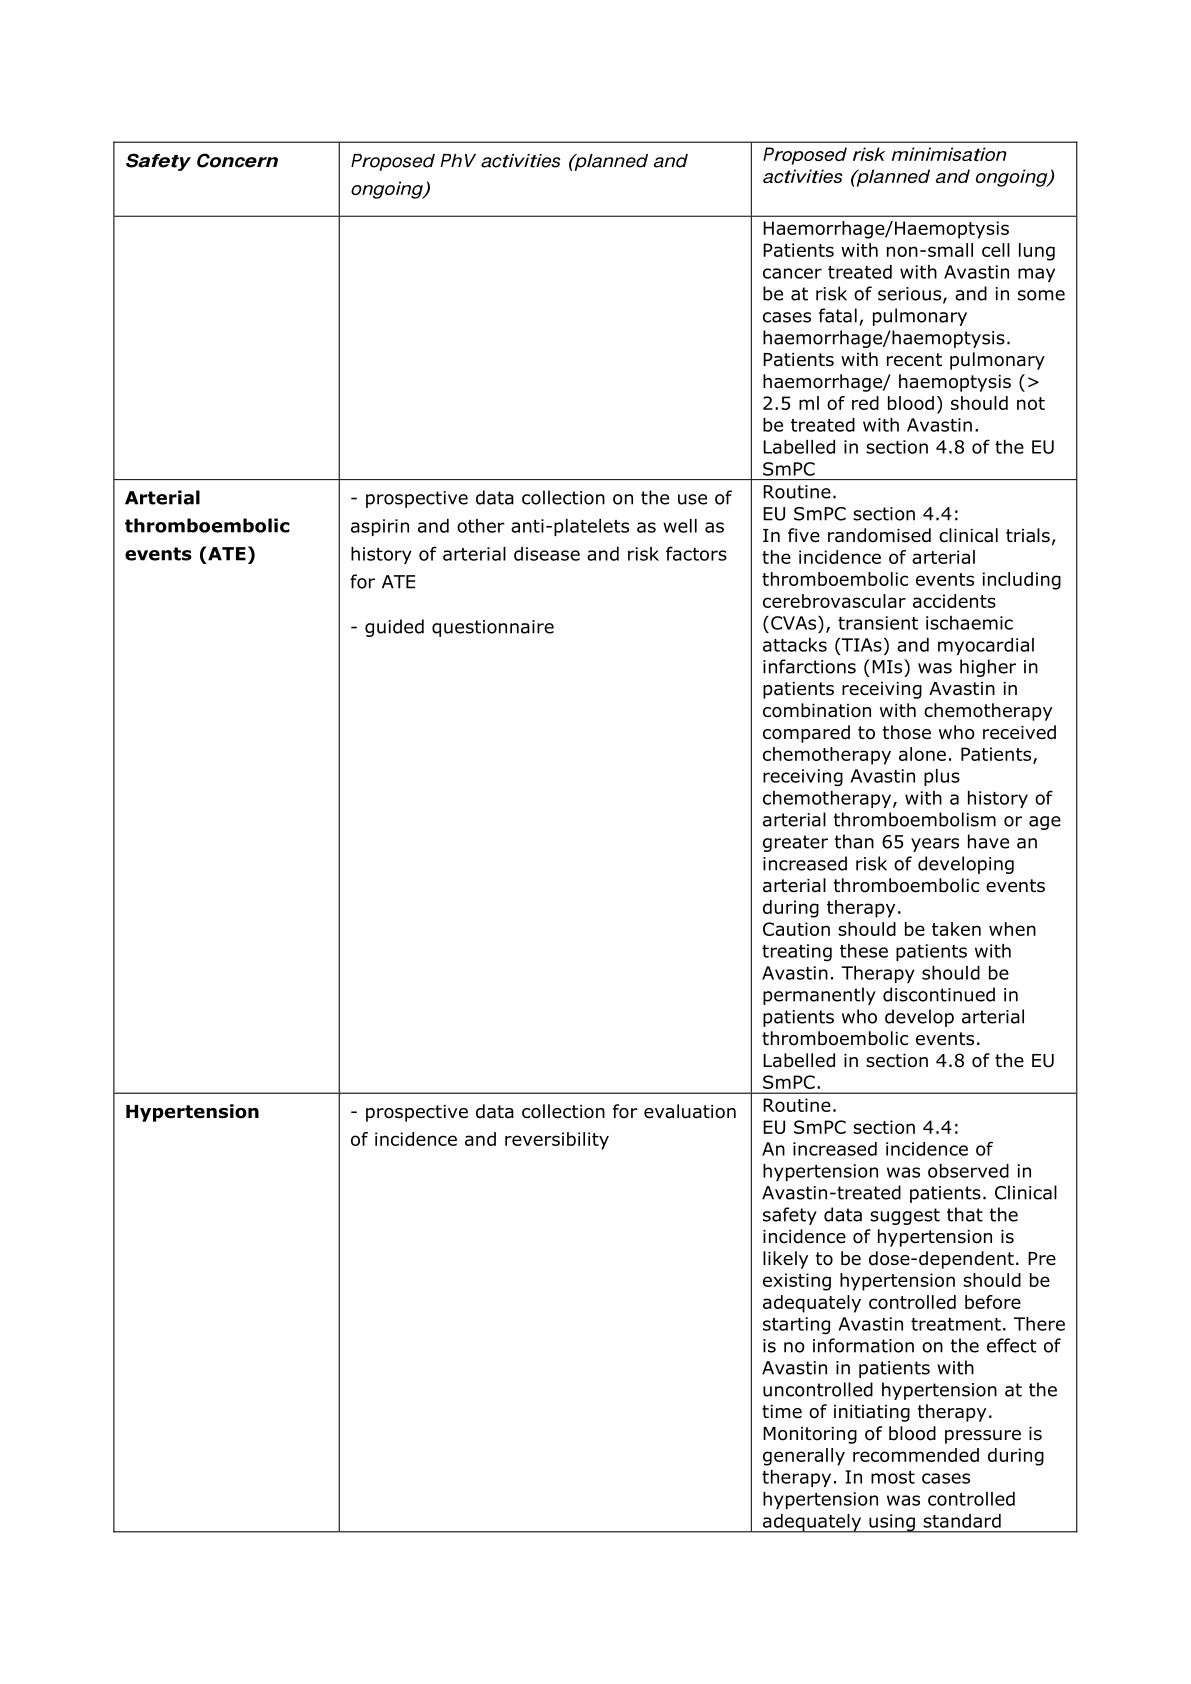full_lined: (112, 140, 1078, 1533)
